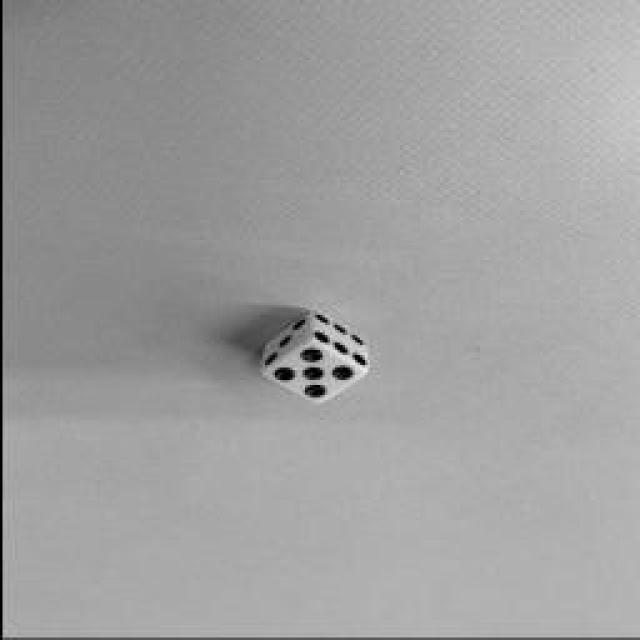dice_5: (259, 340, 366, 405)
